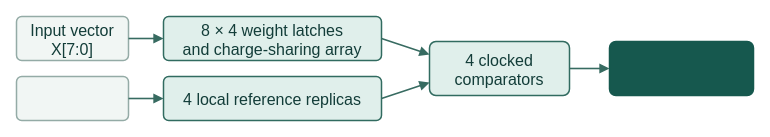
Image size: 770x137. Some labels were removed from this diagram. Each missing label, with the centre of its shape:
"Latched results Y[3:0]" belongs at pixel 681 68.
"Threshold T and FRAC" belongs at pixel 72 98.
